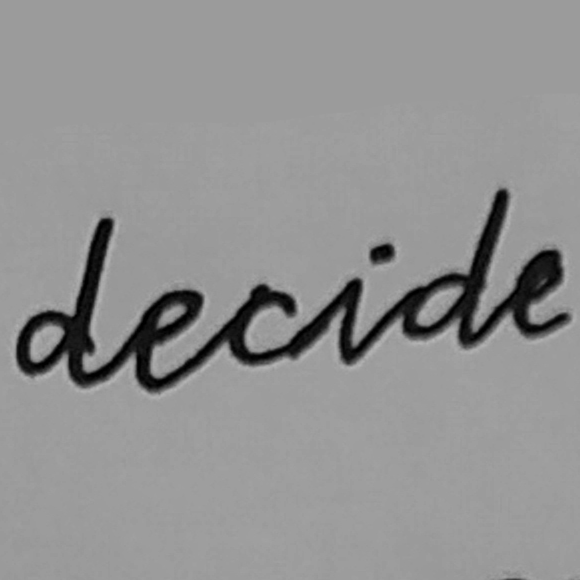c: (224, 278, 304, 370)
d: (390, 182, 513, 355), (8, 212, 120, 393)
e: (125, 281, 213, 397), (502, 240, 578, 345)
i: (329, 257, 373, 377)
